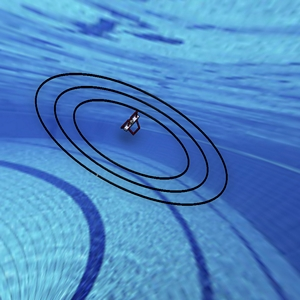circle: (22, 51, 247, 215)
submarine: (111, 106, 145, 139)
